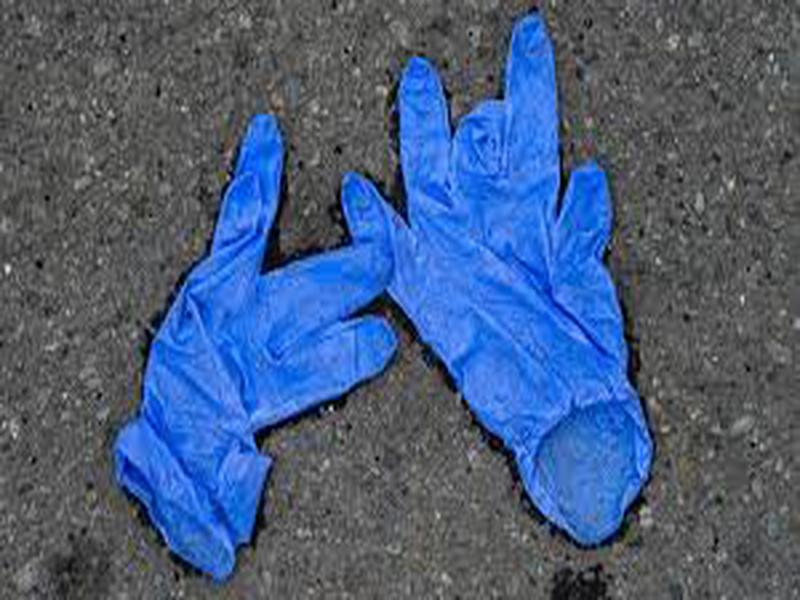gloves: (341, 12, 659, 548), (102, 111, 397, 585)
